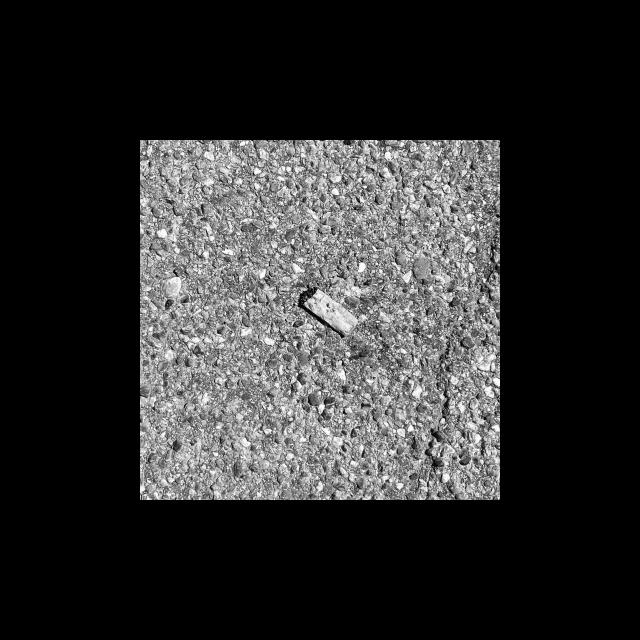cigarette: (299, 286, 359, 337)
